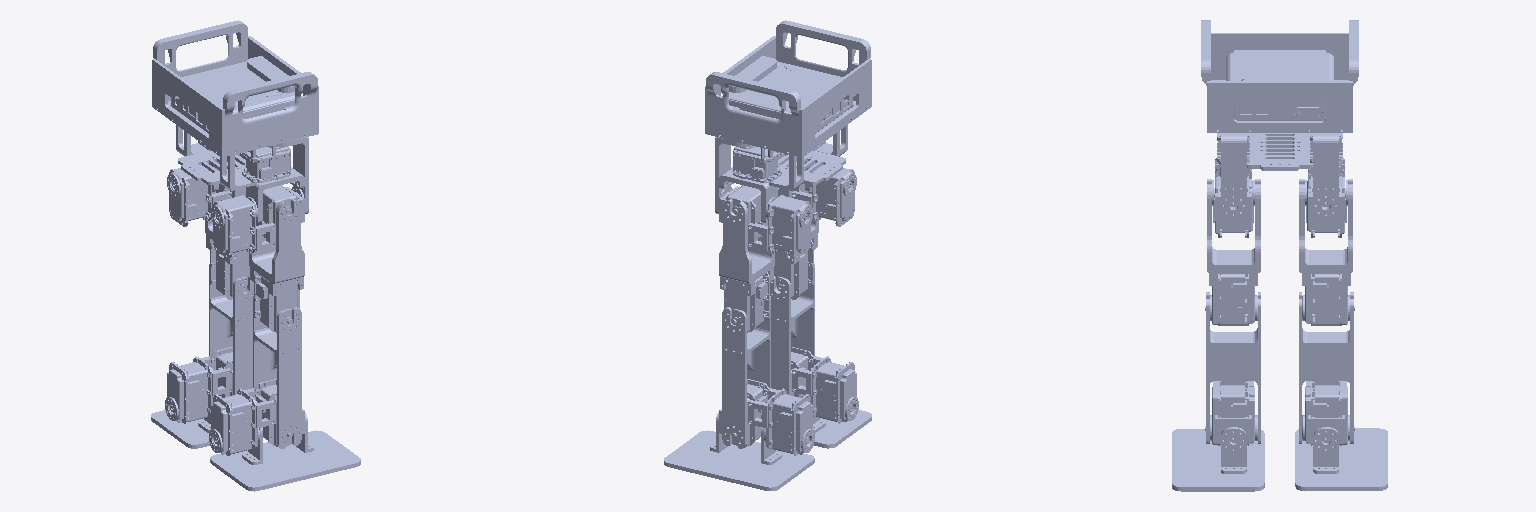
robot.urdf — B_kubot:
<?xml version="1.0" encoding="utf-8"?>
<!-- This URDF was automatically created by SolidWorks to URDF Exporter! Originally created by [author] ([email redacted]) 
     Commit Version: 1.6.0-1-g15f4949  Build Version: 1.6.7594.29634
     For more information, please see http://wiki.ros.org/sw_urdf_exporter -->
<robot
  name="B_kubot">
  <link
    name="base_link">
    <inertial>
      <origin
        xyz="-1.8129E-08 -1.703E-08 3.1445E-08"
        rpy="0 0 0" />
      <mass
        value="0.81437" />
      <inertia
        ixx="0.00098526"
        ixy="-1.366E-07"
        ixz="3.4447E-06"
        iyy="0.00082381"
        iyz="4.2692E-07"
        izz="0.0015446" />
    </inertial>
    <visual>
      <origin
        xyz="0 0 0"
        rpy="0 0 0" />
      <geometry>
        <mesh
          filename="package://B_kubot/meshes/base_link.STL" />
      </geometry>
      <material
        name="">
        <color
          rgba="0.79216 0.81961 0.93333 1" />
      </material>
    </visual>
    <collision>
      <origin
        xyz="0 0 0"
        rpy="0 0 0" />
      <geometry>
        <mesh
          filename="package://B_kubot/meshes/base_link.STL" />
      </geometry>
    </collision>
  </link>
  <link
    name="L_Hip_yaw">
    <inertial>
      <origin
        xyz="0.0098742 1.7736E-14 0.034357"
        rpy="0 0 0" />
      <mass
        value="0.039386" />
      <inertia
        ixx="2.6496E-05"
        ixy="-5.9985E-20"
        ixz="1.145E-06"
        iyy="3.4893E-05"
        iyz="6.4553E-20"
        izz="1.3648E-05" />
    </inertial>
    <visual>
      <origin
        xyz="0 0 0"
        rpy="0 0 0" />
      <geometry>
        <mesh
          filename="package://B_kubot/meshes/L_Hip_yaw.STL" />
      </geometry>
      <material
        name="">
        <color
          rgba="0.79216 0.81961 0.93333 1" />
      </material>
    </visual>
    <collision>
      <origin
        xyz="0 0 0"
        rpy="0 0 0" />
      <geometry>
        <mesh
          filename="package://B_kubot/meshes/L_Hip_yaw.STL" />
      </geometry>
    </collision>
  </link>
  <joint
    name="L_Hip_yaw_joint"
    type="revolute">
    <origin
      xyz="0.0235 0.049953 -0.10464"
      rpy="0 0 0" />
    <parent
      link="base_link" />
    <child
      link="L_Hip_yaw" />
    <axis
      xyz="0 0 -1" />
    <limit
      lower="0"
      upper="0"
      effort="0"
      velocity="0" />
  </joint>
  <link
    name="L_Hip_roll">
    <inertial>
      <origin
        xyz="-0.025734 3.8604E-05 -0.015188"
        rpy="0 0 0" />
      <mass
        value="0.16186" />
      <inertia
        ixx="5.7097E-05"
        ixy="6.8027E-16"
        ixz="-8.8402E-07"
        iyy="5.645E-05"
        iyz="-8.8059E-07"
        izz="3.5595E-05" />
    </inertial>
    <visual>
      <origin
        xyz="0 0 0"
        rpy="0 0 0" />
      <geometry>
        <mesh
          filename="package://B_kubot/meshes/L_Hip_roll.STL" />
      </geometry>
      <material
        name="">
        <color
          rgba="0.79216 0.81961 0.93333 1" />
      </material>
    </visual>
    <collision>
      <origin
        xyz="0 0 0"
        rpy="0 0 0" />
      <geometry>
        <mesh
          filename="package://B_kubot/meshes/L_Hip_roll.STL" />
      </geometry>
    </collision>
  </link>
  <joint
    name="L_Hip_roll_joint"
    type="revolute">
    <origin
      xyz="0 0 0"
      rpy="0 0 0" />
    <parent
      link="L_Hip_yaw" />
    <child
      link="L_Hip_roll" />
    <axis
      xyz="-1 0 0" />
    <limit
      lower="0"
      upper="0"
      effort="0"
      velocity="0" />
  </joint>
  <link
    name="L_Hip_pitch">
    <inertial>
      <origin
        xyz="2.0965E-06 0.00016884 -0.096826"
        rpy="0 0 0" />
      <mass
        value="0.14971" />
      <inertia
        ixx="0.00012605"
        ixy="2.3103E-09"
        ixz="1.6411E-09"
        iyy="9.2705E-05"
        iyz="1.0628E-06"
        izz="6.2851E-05" />
    </inertial>
    <visual>
      <origin
        xyz="0 0 0"
        rpy="0 0 0" />
      <geometry>
        <mesh
          filename="package://B_kubot/meshes/L_Hip_pitch.STL" />
      </geometry>
      <material
        name="">
        <color
          rgba="0.79216 0.81961 0.93333 1" />
      </material>
    </visual>
    <collision>
      <origin
        xyz="0 0 0"
        rpy="0 0 0" />
      <geometry>
        <mesh
          filename="package://B_kubot/meshes/L_Hip_pitch.STL" />
      </geometry>
    </collision>
  </link>
  <joint
    name="L_Hip_pitch_joint"
    type="revolute">
    <origin
      xyz="0 0 0"
      rpy="0 0 0" />
    <parent
      link="L_Hip_roll" />
    <child
      link="L_Hip_pitch" />
    <axis
      xyz="0 -1 0" />
    <limit
      lower="0"
      upper="0"
      effort="0"
      velocity="0" />
  </joint>
  <link
    name="L_Knee">
    <inertial>
      <origin
        xyz="0.0024707 0.0002 -0.064983"
        rpy="0 0 0" />
      <mass
        value="0.053244" />
      <inertia
        ixx="0.00012155"
        ixy="-8.4674E-13"
        ixz="-6.9999E-07"
        iyy="9.3136E-05"
        iyz="6.9917E-13"
        izz="3.7874E-05" />
    </inertial>
    <visual>
      <origin
        xyz="0 0 0"
        rpy="0 0 0" />
      <geometry>
        <mesh
          filename="package://B_kubot/meshes/L_Knee.STL" />
      </geometry>
      <material
        name="">
        <color
          rgba="0.79216 0.81961 0.93333 1" />
      </material>
    </visual>
    <collision>
      <origin
        xyz="0 0 0"
        rpy="0 0 0" />
      <geometry>
        <mesh
          filename="package://B_kubot/meshes/L_Knee.STL" />
      </geometry>
    </collision>
  </link>
  <joint
    name="L_Knee_joint"
    type="revolute">
    <origin
      xyz="-0.00032 0 -0.138"
      rpy="0 0 0" />
    <parent
      link="L_Hip_pitch" />
    <child
      link="L_Knee" />
    <axis
      xyz="0 -1 0" />
    <limit
      lower="0"
      upper="0"
      effort="0"
      velocity="0" />
  </joint>
  <link
    name="L_Ankle_pitch">
    <inertial>
      <origin
        xyz="-0.024331 5.1006E-05 0.014723"
        rpy="0 0 0" />
      <mass
        value="0.19591" />
      <inertia
        ixx="7.8092E-05"
        ixy="-1.0527E-17"
        ixz="1.1869E-06"
        iyy="7.7114E-05"
        iyz="1.0612E-06"
        izz="4.8232E-05" />
    </inertial>
    <visual>
      <origin
        xyz="0 0 0"
        rpy="0 0 0" />
      <geometry>
        <mesh
          filename="package://B_kubot/meshes/L_Ankle_pitch.STL" />
      </geometry>
      <material
        name="">
        <color
          rgba="0.79216 0.81961 0.93333 1" />
      </material>
    </visual>
    <collision>
      <origin
        xyz="0 0 0"
        rpy="0 0 0" />
      <geometry>
        <mesh
          filename="package://B_kubot/meshes/L_Ankle_pitch.STL" />
      </geometry>
    </collision>
  </link>
  <joint
    name="L_Ankle_pitch_joint"
    type="revolute">
    <origin
      xyz="0.00032 0.0001 -0.143"
      rpy="0 0 0" />
    <parent
      link="L_Knee" />
    <child
      link="L_Ankle_pitch" />
    <axis
      xyz="0 -1 0" />
    <limit
      lower="0"
      upper="0"
      effort="0"
      velocity="0" />
  </joint>
  <link
    name="L_Ankle_roll">
    <inertial>
      <origin
        xyz="-0.029387 -9.5479E-15 -0.015903"
        rpy="0 0 0" />
      <mass
        value="0.0058633" />
      <inertia
        ixx="1.6806E-06"
        ixy="2.9974E-21"
        ixz="-1.19E-07"
        iyy="1.3489E-06"
        iyz="-4.5243E-21"
        izz="4.405E-07" />
    </inertial>
    <visual>
      <origin
        xyz="0 0 0"
        rpy="0 0 0" />
      <geometry>
        <mesh
          filename="package://B_kubot/meshes/L_Ankle_roll.STL" />
      </geometry>
      <material
        name="">
        <color
          rgba="0.79216 0.81961 0.93333 1" />
      </material>
    </visual>
    <collision>
      <origin
        xyz="0 0 0"
        rpy="0 0 0" />
      <geometry>
        <mesh
          filename="package://B_kubot/meshes/L_Ankle_roll.STL" />
      </geometry>
    </collision>
  </link>
  <joint
    name="L_Ankle_roll_joint"
    type="revolute">
    <origin
      xyz="0 0 0"
      rpy="0 0 0" />
    <parent
      link="L_Ankle_pitch" />
    <child
      link="L_Ankle_roll" />
    <axis
      xyz="-1 0 0" />
    <limit
      lower="0"
      upper="0"
      effort="0"
      velocity="0" />
  </joint>
  <link
    name="L_Foot">
    <inertial>
      <origin
        xyz="0.00097802 0.016837 0.0025028"
        rpy="0 0 0" />
      <mass
        value="0.074259" />
      <inertia
        ixx="6.1573E-05"
        ixy="-2.4558E-09"
        ixz="-9.7306E-11"
        iyy="0.00013809"
        iyz="3.4506E-09"
        izz="0.00019935" />
    </inertial>
    <visual>
      <origin
        xyz="0 0 0"
        rpy="0 0 0" />
      <geometry>
        <mesh
          filename="package://B_kubot/meshes/L_Foot.STL" />
      </geometry>
      <material
        name="">
        <color
          rgba="0.79216 0.81961 0.93333 1" />
      </material>
    </visual>
    <collision>
      <origin
        xyz="0 0 0"
        rpy="0 0 0" />
      <geometry>
        <mesh
          filename="package://B_kubot/meshes/L_Foot.STL" />
      </geometry>
    </collision>
  </link>
  <joint
    name="L_Foot_joint"
    type="revolute">
    <origin
      xyz="-0.00032 -0.0001 -0.04"
      rpy="0 0 0" />
    <parent
      link="L_Ankle_roll" />
    <child
      link="L_Foot" />
    <axis
      xyz="0 0 -1" />
    <limit
      lower="0"
      upper="0"
      effort="0"
      velocity="0" />
  </joint>
  <link
    name="R_Hip_yaw">
    <inertial>
      <origin
        xyz="0.0098742 -2.9005E-15 0.034357"
        rpy="0 0 0" />
      <mass
        value="0.039386" />
      <inertia
        ixx="2.6496E-05"
        ixy="-2.5676E-20"
        ixz="1.145E-06"
        iyy="3.4893E-05"
        iyz="8.0359E-20"
        izz="1.3648E-05" />
    </inertial>
    <visual>
      <origin
        xyz="0 0 0"
        rpy="0 0 0" />
      <geometry>
        <mesh
          filename="package://B_kubot/meshes/R_Hip_yaw.STL" />
      </geometry>
      <material
        name="">
        <color
          rgba="0.79216 0.81961 0.93333 1" />
      </material>
    </visual>
    <collision>
      <origin
        xyz="0 0 0"
        rpy="0 0 0" />
      <geometry>
        <mesh
          filename="package://B_kubot/meshes/R_Hip_yaw.STL" />
      </geometry>
    </collision>
  </link>
  <joint
    name="R_Hip_yaw_joint"
    type="revolute">
    <origin
      xyz="0.0235 -0.050047 -0.10464"
      rpy="0 0 0" />
    <parent
      link="base_link" />
    <child
      link="R_Hip_yaw" />
    <axis
      xyz="0 0 -1" />
    <limit
      lower="0"
      upper="0"
      effort="0"
      velocity="0" />
  </joint>
  <link
    name="R_Hip_roll">
    <inertial>
      <origin
        xyz="-0.025734 -3.8605E-05 -0.015188"
        rpy="0 0 0" />
      <mass
        value="0.16186" />
      <inertia
        ixx="5.7097E-05"
        ixy="-1.9787E-15"
        ixz="-8.8402E-07"
        iyy="5.645E-05"
        iyz="8.8059E-07"
        izz="3.5595E-05" />
    </inertial>
    <visual>
      <origin
        xyz="0 0 0"
        rpy="0 0 0" />
      <geometry>
        <mesh
          filename="package://B_kubot/meshes/R_Hip_roll.STL" />
      </geometry>
      <material
        name="">
        <color
          rgba="0.79216 0.81961 0.93333 1" />
      </material>
    </visual>
    <collision>
      <origin
        xyz="0 0 0"
        rpy="0 0 0" />
      <geometry>
        <mesh
          filename="package://B_kubot/meshes/R_Hip_roll.STL" />
      </geometry>
    </collision>
  </link>
  <joint
    name="R_Hip_roll_joint"
    type="revolute">
    <origin
      xyz="0 0 0"
      rpy="0 0 0" />
    <parent
      link="R_Hip_yaw" />
    <child
      link="R_Hip_roll" />
    <axis
      xyz="-1 0 0" />
    <limit
      lower="0"
      upper="0"
      effort="0"
      velocity="0" />
  </joint>
  <link
    name="R_Hip_pitch">
    <inertial>
      <origin
        xyz="-2.0965E-06 -0.00016884 -0.096826"
        rpy="0 0 0" />
      <mass
        value="0.14971" />
      <inertia
        ixx="0.00012605"
        ixy="2.3103E-09"
        ixz="-1.6411E-09"
        iyy="9.2705E-05"
        iyz="-1.0628E-06"
        izz="6.2851E-05" />
    </inertial>
    <visual>
      <origin
        xyz="0 0 0"
        rpy="0 0 0" />
      <geometry>
        <mesh
          filename="package://B_kubot/meshes/R_Hip_pitch.STL" />
      </geometry>
      <material
        name="">
        <color
          rgba="0.79216 0.81961 0.93333 1" />
      </material>
    </visual>
    <collision>
      <origin
        xyz="0 0 0"
        rpy="0 0 0" />
      <geometry>
        <mesh
          filename="package://B_kubot/meshes/R_Hip_pitch.STL" />
      </geometry>
    </collision>
  </link>
  <joint
    name="R_Hip_pitch_joint"
    type="revolute">
    <origin
      xyz="0 0 0"
      rpy="0 0 0" />
    <parent
      link="R_Hip_roll" />
    <child
      link="R_Hip_pitch" />
    <axis
      xyz="0 1 0" />
    <limit
      lower="0"
      upper="0"
      effort="0"
      velocity="0" />
  </joint>
  <link
    name="R_Knee">
    <inertial>
      <origin
        xyz="0.0024707 -0.0002 -0.064983"
        rpy="0 0 0" />
      <mass
        value="0.053244" />
      <inertia
        ixx="0.00012155"
        ixy="-8.4674E-13"
        ixz="-6.9999E-07"
        iyy="9.3136E-05"
        iyz="6.9917E-13"
        izz="3.7874E-05" />
    </inertial>
    <visual>
      <origin
        xyz="0 0 0"
        rpy="0 0 0" />
      <geometry>
        <mesh
          filename="package://B_kubot/meshes/R_Knee.STL" />
      </geometry>
      <material
        name="">
        <color
          rgba="0.79216 0.81961 0.93333 1" />
      </material>
    </visual>
    <collision>
      <origin
        xyz="0 0 0"
        rpy="0 0 0" />
      <geometry>
        <mesh
          filename="package://B_kubot/meshes/R_Knee.STL" />
      </geometry>
    </collision>
  </link>
  <joint
    name="R_Knee_joint"
    type="revolute">
    <origin
      xyz="-0.00032 0 -0.138"
      rpy="0 0 0" />
    <parent
      link="R_Hip_pitch" />
    <child
      link="R_Knee" />
    <axis
      xyz="0 1 0" />
    <limit
      lower="0"
      upper="0"
      effort="0"
      velocity="0" />
  </joint>
  <link
    name="R_Ankle_pitch">
    <inertial>
      <origin
        xyz="-0.024334 -5.4211E-05 0.014723"
        rpy="0 0 0" />
      <mass
        value="0.19591" />
      <inertia
        ixx="7.8092E-05"
        ixy="1.3841E-17"
        ixz="1.1836E-06"
        iyy="7.7114E-05"
        iyz="-1.0645E-06"
        izz="4.8232E-05" />
    </inertial>
    <visual>
      <origin
        xyz="0 0 0"
        rpy="0 0 0" />
      <geometry>
        <mesh
          filename="package://B_kubot/meshes/R_Ankle_pitch.STL" />
      </geometry>
      <material
        name="">
        <color
          rgba="0.79216 0.81961 0.93333 1" />
      </material>
    </visual>
    <collision>
      <origin
        xyz="0 0 0"
        rpy="0 0 0" />
      <geometry>
        <mesh
          filename="package://B_kubot/meshes/R_Ankle_pitch.STL" />
      </geometry>
    </collision>
  </link>
  <joint
    name="R_Ankle_pitch_joint"
    type="revolute">
    <origin
      xyz="0.00032 -0.0001 -0.143"
      rpy="0 0 0" />
    <parent
      link="R_Knee" />
    <child
      link="R_Ankle_pitch" />
    <axis
      xyz="0 1 0" />
    <limit
      lower="0"
      upper="0"
      effort="0"
      velocity="0" />
  </joint>
  <link
    name="R_Ankle_roll">
    <inertial>
      <origin
        xyz="-0.029387 -1.5335E-15 -0.015903"
        rpy="0 0 0" />
      <mass
        value="0.0058633" />
      <inertia
        ixx="1.6806E-06"
        ixy="3.3521E-21"
        ixz="-1.19E-07"
        iyy="1.3489E-06"
        iyz="-4.3506E-21"
        izz="4.405E-07" />
    </inertial>
    <visual>
      <origin
        xyz="0 0 0"
        rpy="0 0 0" />
      <geometry>
        <mesh
          filename="package://B_kubot/meshes/R_Ankle_roll.STL" />
      </geometry>
      <material
        name="">
        <color
          rgba="0.79216 0.81961 0.93333 1" />
      </material>
    </visual>
    <collision>
      <origin
        xyz="0 0 0"
        rpy="0 0 0" />
      <geometry>
        <mesh
          filename="package://B_kubot/meshes/R_Ankle_roll.STL" />
      </geometry>
    </collision>
  </link>
  <joint
    name="R_Ankle_roll_joint"
    type="revolute">
    <origin
      xyz="0 0 0"
      rpy="0 0 0" />
    <parent
      link="R_Ankle_pitch" />
    <child
      link="R_Ankle_roll" />
    <axis
      xyz="-1 0 0" />
    <limit
      lower="0"
      upper="0"
      effort="0"
      velocity="0" />
  </joint>
  <link
    name="R_Foot">
    <inertial>
      <origin
        xyz="0.0019218 -0.016829 0.0025027"
        rpy="0 0 0" />
      <mass
        value="0.074292" />
      <inertia
        ixx="6.1584E-05"
        ixy="-2.1954E-09"
        ixz="9.3372E-11"
        iyy="0.00013813"
        iyz="-3.3111E-09"
        izz="0.00019941" />
    </inertial>
    <visual>
      <origin
        xyz="0 0 0"
        rpy="0 0 0" />
      <geometry>
        <mesh
          filename="package://B_kubot/meshes/R_Foot.STL" />
      </geometry>
      <material
        name="">
        <color
          rgba="0.79216 0.81961 0.93333 1" />
      </material>
    </visual>
    <collision>
      <origin
        xyz="0 0 0"
        rpy="0 0 0" />
      <geometry>
        <mesh
          filename="package://B_kubot/meshes/R_Foot.STL" />
      </geometry>
    </collision>
  </link>
  <joint
    name="R_Foot_joint"
    type="revolute">
    <origin
      xyz="-0.00032 0.0001 -0.04"
      rpy="0 0 0" />
    <parent
      link="R_Ankle_roll" />
    <child
      link="R_Foot" />
    <axis
      xyz="0 0 -1" />
    <limit
      lower="0"
      upper="0"
      effort="0"
      velocity="0" />
  </joint>
</robot>

--- Facts derived from the render (not from the file) ---
Views: 3 orthographic renders of the robot side by side, from view 1: azimuth 30°, elevation 25°; view 2: azimuth 150°, elevation 25°; view 3: azimuth 270°, elevation 25°.
Model B_kubot with 15 links and 14 joints (14 revolute), rooted at base_link, posed all joints at 0.
Links seen in each view (by area): view 1: base_link, R_Hip_pitch, R_Knee, R_Foot, R_Ankle_pitch, R_Hip_roll, L_Ankle_pitch, L_Knee, L_Hip_roll, L_Hip_pitch, R_Hip_yaw, L_Foot; view 2: base_link, L_Hip_pitch, L_Knee, L_Foot, L_Ankle_pitch, L_Hip_roll, R_Ankle_pitch, R_Knee, R_Hip_roll, R_Hip_pitch, L_Hip_yaw, R_Foot; view 3: base_link, L_Hip_pitch, R_Hip_pitch, R_Foot, L_Foot, L_Ankle_pitch, R_Ankle_pitch, L_Knee, R_Knee, L_Hip_yaw, R_Hip_yaw, R_Hip_roll (+1 smaller).
Boxes of the visible links, bbox=[...] form: base_link: bbox=[152, 20, 318, 190]; R_Hip_pitch: bbox=[249, 199, 304, 332]; R_Knee: bbox=[253, 296, 301, 448]; R_Foot: bbox=[210, 430, 360, 491]; R_Ankle_pitch: bbox=[209, 379, 313, 455]; R_Hip_roll: bbox=[211, 185, 304, 258]; L_Ankle_pitch: bbox=[165, 347, 232, 423]; L_Knee: bbox=[209, 264, 253, 394]; L_Hip_roll: bbox=[167, 156, 245, 226]; L_Hip_pitch: bbox=[205, 188, 249, 299]; R_Hip_yaw: bbox=[246, 137, 308, 223]; L_Foot: bbox=[151, 410, 209, 448]; base_link: bbox=[705, 20, 871, 190]; L_Hip_pitch: bbox=[719, 199, 774, 332]; L_Knee: bbox=[722, 296, 770, 448]; L_Foot: bbox=[664, 430, 814, 490]; L_Ankle_pitch: bbox=[710, 379, 814, 455]; L_Hip_roll: bbox=[719, 185, 812, 258]; R_Ankle_pitch: bbox=[791, 347, 858, 423]; R_Knee: bbox=[770, 264, 814, 394]; R_Hip_roll: bbox=[778, 156, 856, 226]; R_Hip_pitch: bbox=[774, 188, 818, 299]; L_Hip_yaw: bbox=[715, 137, 777, 223]; R_Foot: bbox=[814, 410, 871, 448]; base_link: bbox=[1201, 20, 1358, 170]; L_Hip_pitch: bbox=[1299, 179, 1354, 325]; R_Hip_pitch: bbox=[1205, 179, 1260, 325]; R_Foot: bbox=[1172, 429, 1264, 491]; L_Foot: bbox=[1295, 428, 1387, 490]; L_Ankle_pitch: bbox=[1302, 381, 1354, 473]; R_Ankle_pitch: bbox=[1205, 381, 1257, 473]; L_Knee: bbox=[1299, 292, 1353, 443]; R_Knee: bbox=[1206, 292, 1260, 443]; L_Hip_yaw: bbox=[1313, 133, 1338, 220]; R_Hip_yaw: bbox=[1221, 133, 1246, 220]; R_Hip_roll: bbox=[1212, 158, 1254, 237].
Size in the robot's own frame: 0.1664 by 0.2335 by 0.4903 metres.
15 mesh visuals loaded from 15 distinct referenced files (15 binary STL).
